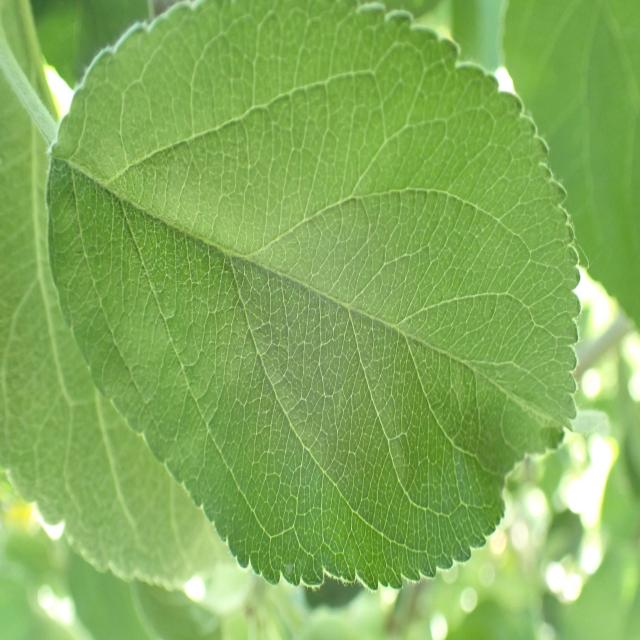healthy: (47, 1, 590, 593), (0, 12, 236, 591), (500, 0, 640, 338)
